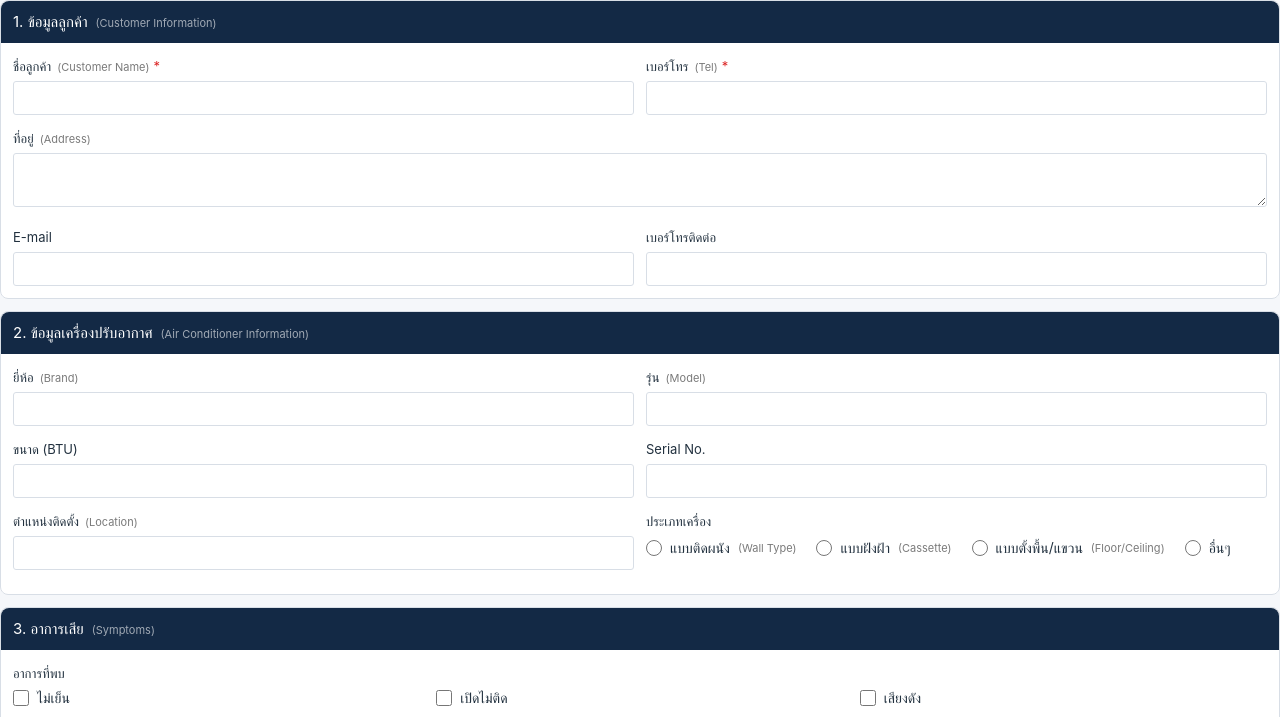
Scenario: what the renderer writes is what the validator reads › resolves visibleWhen against the sibling field, not the whole payload
Expected: the field labelled "ระบุประเภทอื่นๆ" is not shown
By role, because the symptoms section has a text field labelled อื่นๆ too.
What coordinates should you click on to do the following:
click the radio button labelled "อื่นๆ"
I would click on:
 (1193, 548)
Its box is [1185,540,1201,556].
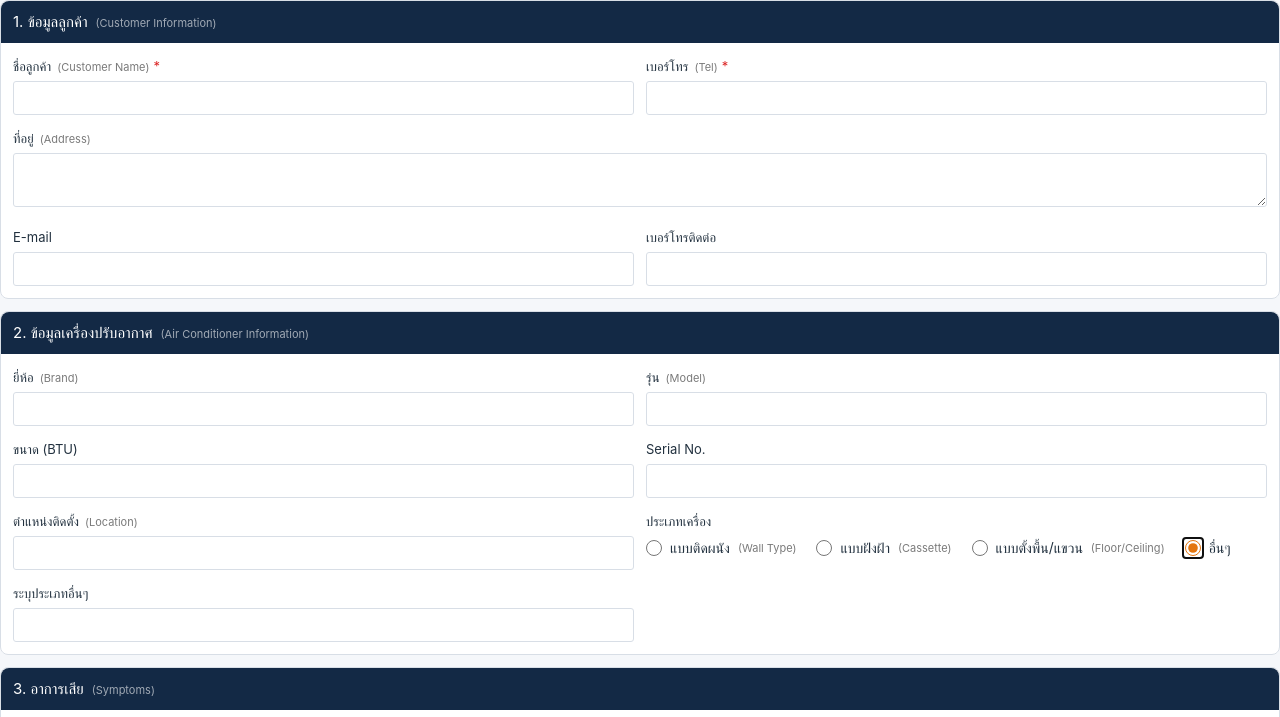
Now the field labelled "ระบุประเภทอื่นๆ" is shown, box [13,608,634,642]
